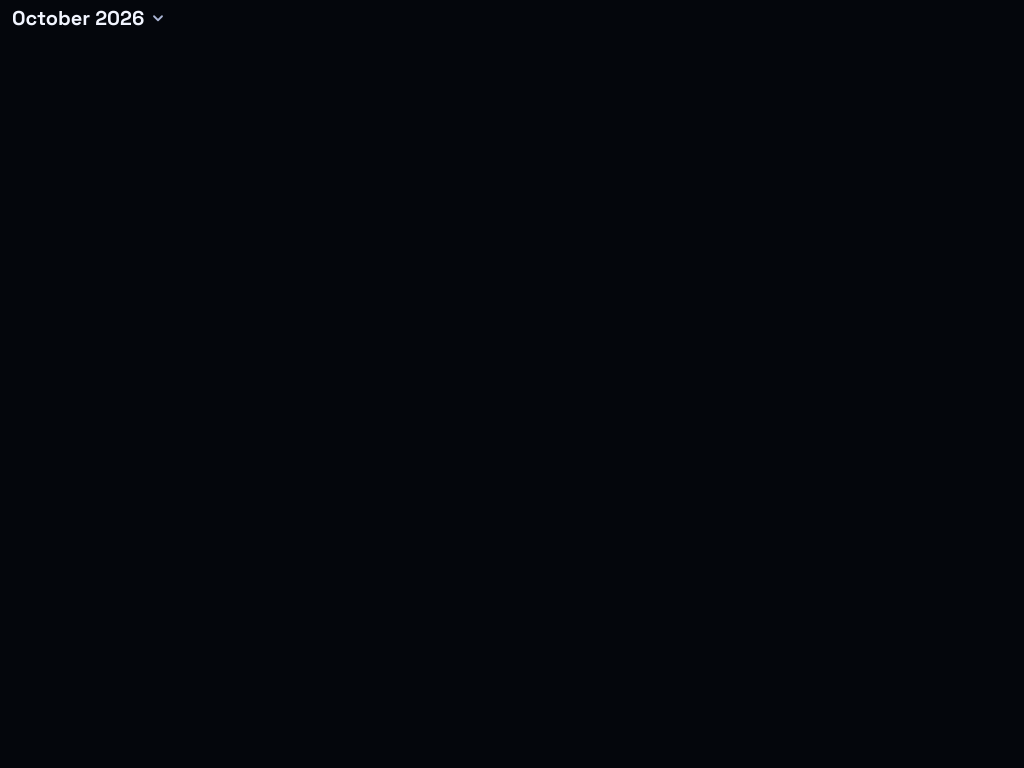
Test: MonthPicker (calendário de um mês) › clicar no dia já troca e fecha, sem botão de aplicar
This screenshot has width=1024, height=768.
Click the button with aria-label "October 2026 — choose day" at (88, 18), box [0,0,176,36]
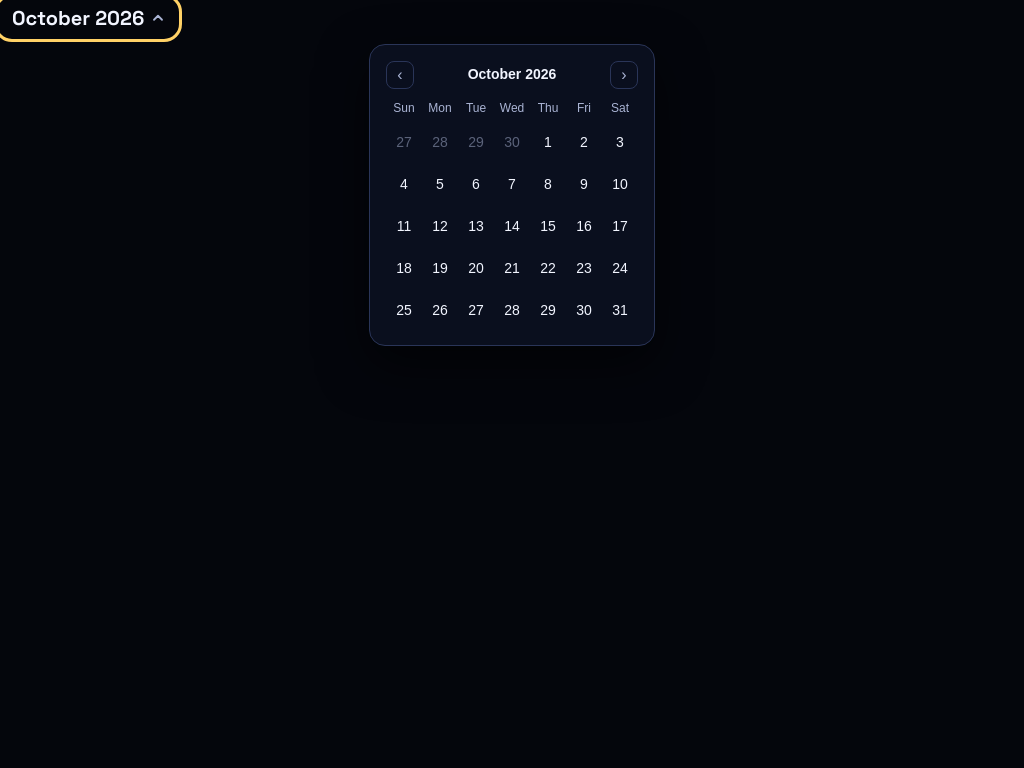
Click the button named "October 12, 2026" at (440, 227), box [422,209,458,245]
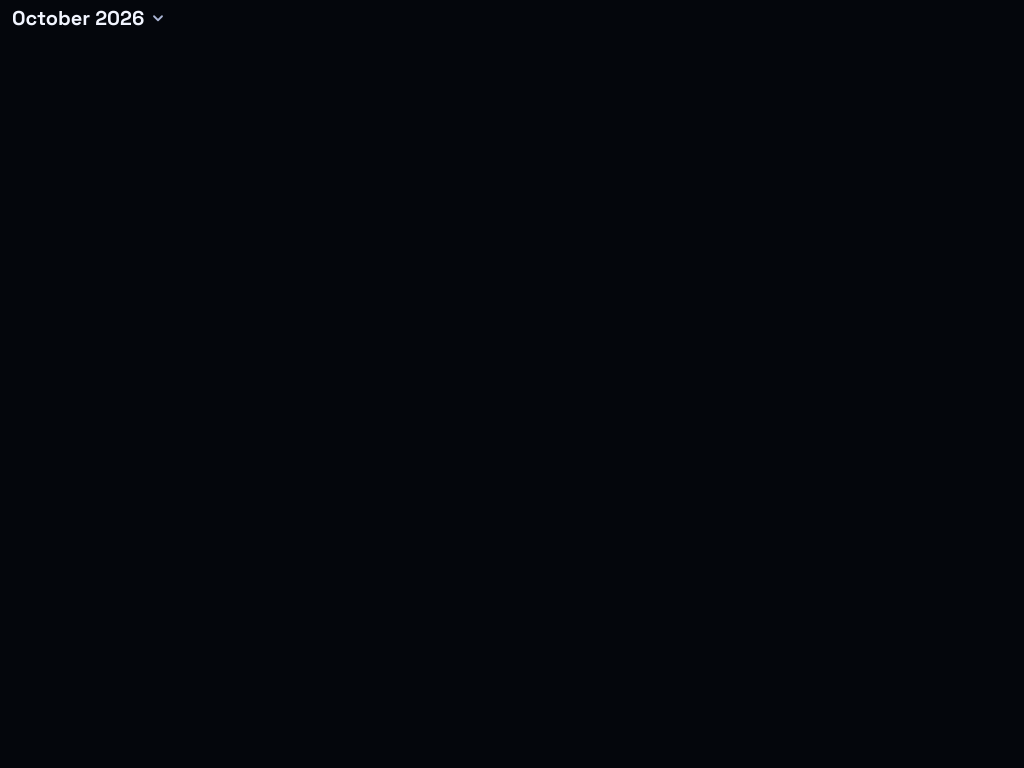
Check: the dialog is gone
